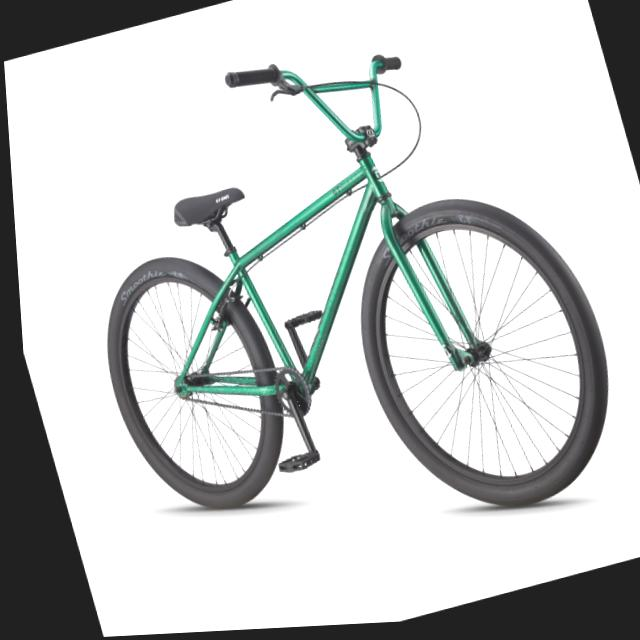bmx-bike: (26, 0, 640, 607)
